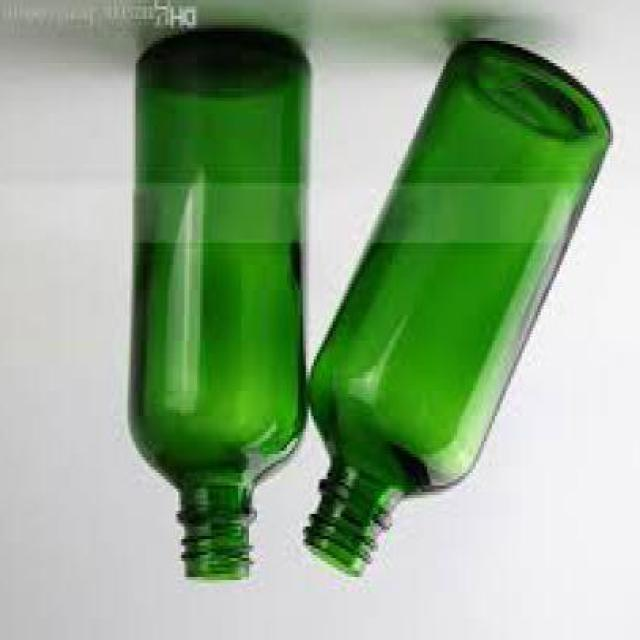kaca: (307, 44, 615, 583), (138, 31, 310, 584)
